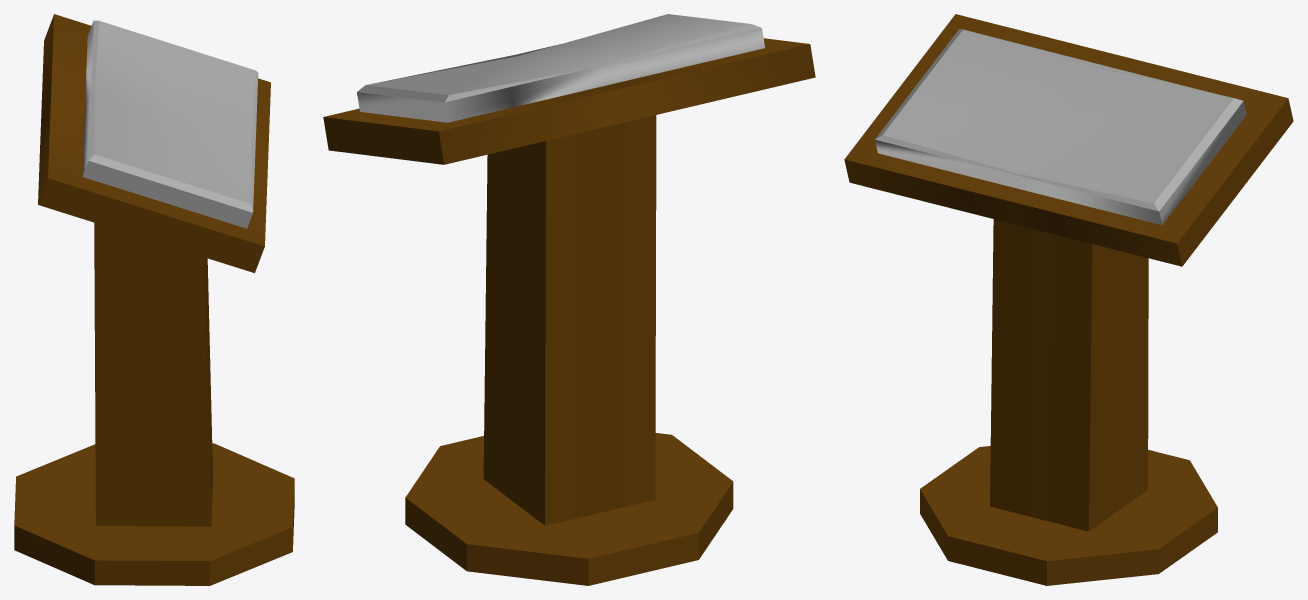
File: BaseBeastiary_Beastiary.fbx
The picture shows the model from 3 angles, left to right: view 1: azimuth 30°, elevation 25°; view 2: azimuth 150°, elevation 25°; view 3: azimuth 270°, elevation 25°; orthographic projection. The views are drawn at different scales.
Parts seen in each view (by area): view 1: Beastiary_Beastiary; view 2: Beastiary_Beastiary; view 3: Beastiary_Beastiary.
Part boxes in pixels (x1=…): Beastiary_Beastiary: x1=14, y1=14, x2=294, y2=585; Beastiary_Beastiary: x1=323, y1=14, x2=815, y2=585; Beastiary_Beastiary: x1=844, y1=14, x2=1293, y2=585.
Bounding box in the file's own units: 2.89 × 3.55 × 3.3.
